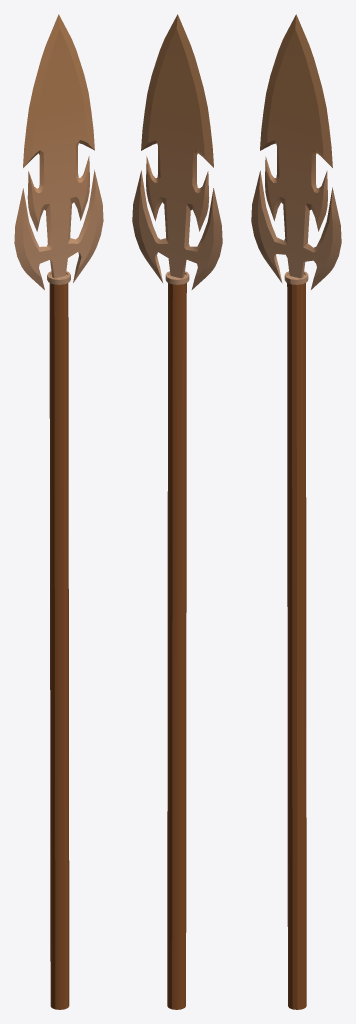
Rendered from Spear_2.fbx.
The picture shows the model from 3 angles, left to right: view 1: azimuth 30°, elevation 25°; view 2: azimuth 150°, elevation 25°; view 3: azimuth 330°, elevation 25°; orthographic projection.
Parts seen in each view (by area): view 1: Spear_2; view 2: Spear_2; view 3: Spear_2.
Boxes of the visible parts, x1,y1,x2,y2 form: Spear_2: (14,14,103,1009); Spear_2: (132,14,222,1009); Spear_2: (251,14,341,1009).
Bounding box in the file's own units: 18.23 × 192 × 4.2.
